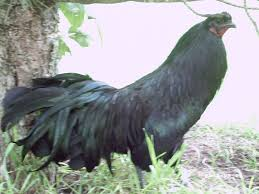chicken: (3, 5, 244, 192)
